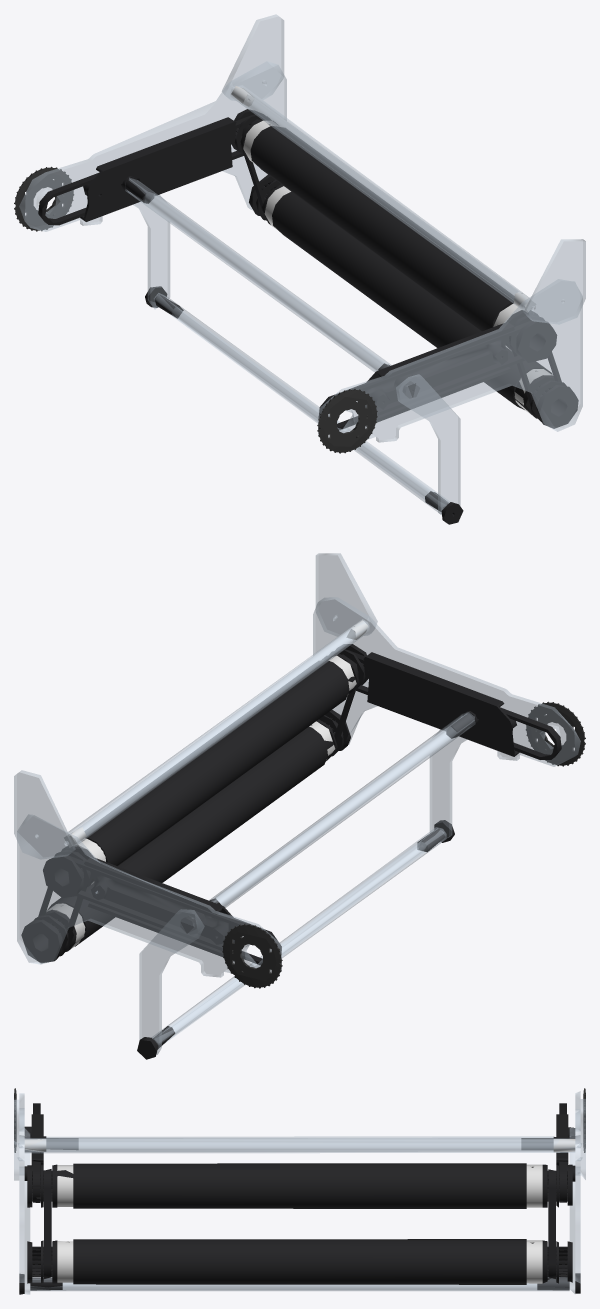
Rendered from 604-intake.glb.
3 renders of one model, top to bottom at view 1: azimuth 30°, elevation 25°; view 2: azimuth 150°, elevation 25°; view 3: azimuth 270°, elevation 25°, orthographic. The views are drawn at different scales.
Visible parts, largest first — view 1: Anti Ball Pressure Cross Tube, Short Intake Belt, 36t Aluminum Sprocket (#25, SplineXL Bore), Rigid Cross Tube Plug; view 2: Anti Ball Pressure Cross Tube, Short Intake Belt, 36t Aluminum Sprocket (#25, SplineXL Bore), Rigid Cross Tube Plug; view 3: Short Intake Belt, Anti Ball Pressure Cross Tube, Rigid Cross Tube Plug, 36t Aluminum Sprocket (#25, SplineXL Bore).
Part boxes in pixels (left/top/right/bottom): Anti Ball Pressure Cross Tube: left=19, top=14, right=585, bottom=514; Short Intake Belt: left=38, top=109, right=578, bottom=524; 36t Aluminum Sprocket (#25, SplineXL Bore): left=14, top=166, right=377, bottom=453; Rigid Cross Tube Plug: left=231, top=86, right=552, bottom=415; Anti Ball Pressure Cross Tube: left=14, top=553, right=580, bottom=1054; Short Intake Belt: left=21, top=644, right=561, bottom=1059; 36t Aluminum Sprocket (#25, SplineXL Bore): left=222, top=701, right=585, bottom=988; Rigid Cross Tube Plug: left=46, top=620, right=368, bottom=949; Short Intake Belt: left=19, top=1103, right=580, bottom=1294; Anti Ball Pressure Cross Tube: left=14, top=1091, right=585, bottom=1294; Rigid Cross Tube Plug: left=24, top=1139, right=575, bottom=1283; 36t Aluminum Sprocket (#25, SplineXL Bore): left=14, top=1088, right=585, bottom=1152.
Bounding box in the file's own units: 0.3427 × 0.316 × 0.6731.
